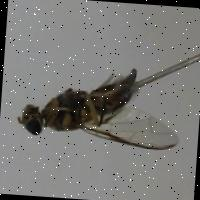Oriental-fruit-fly: (10, 47, 190, 165)
